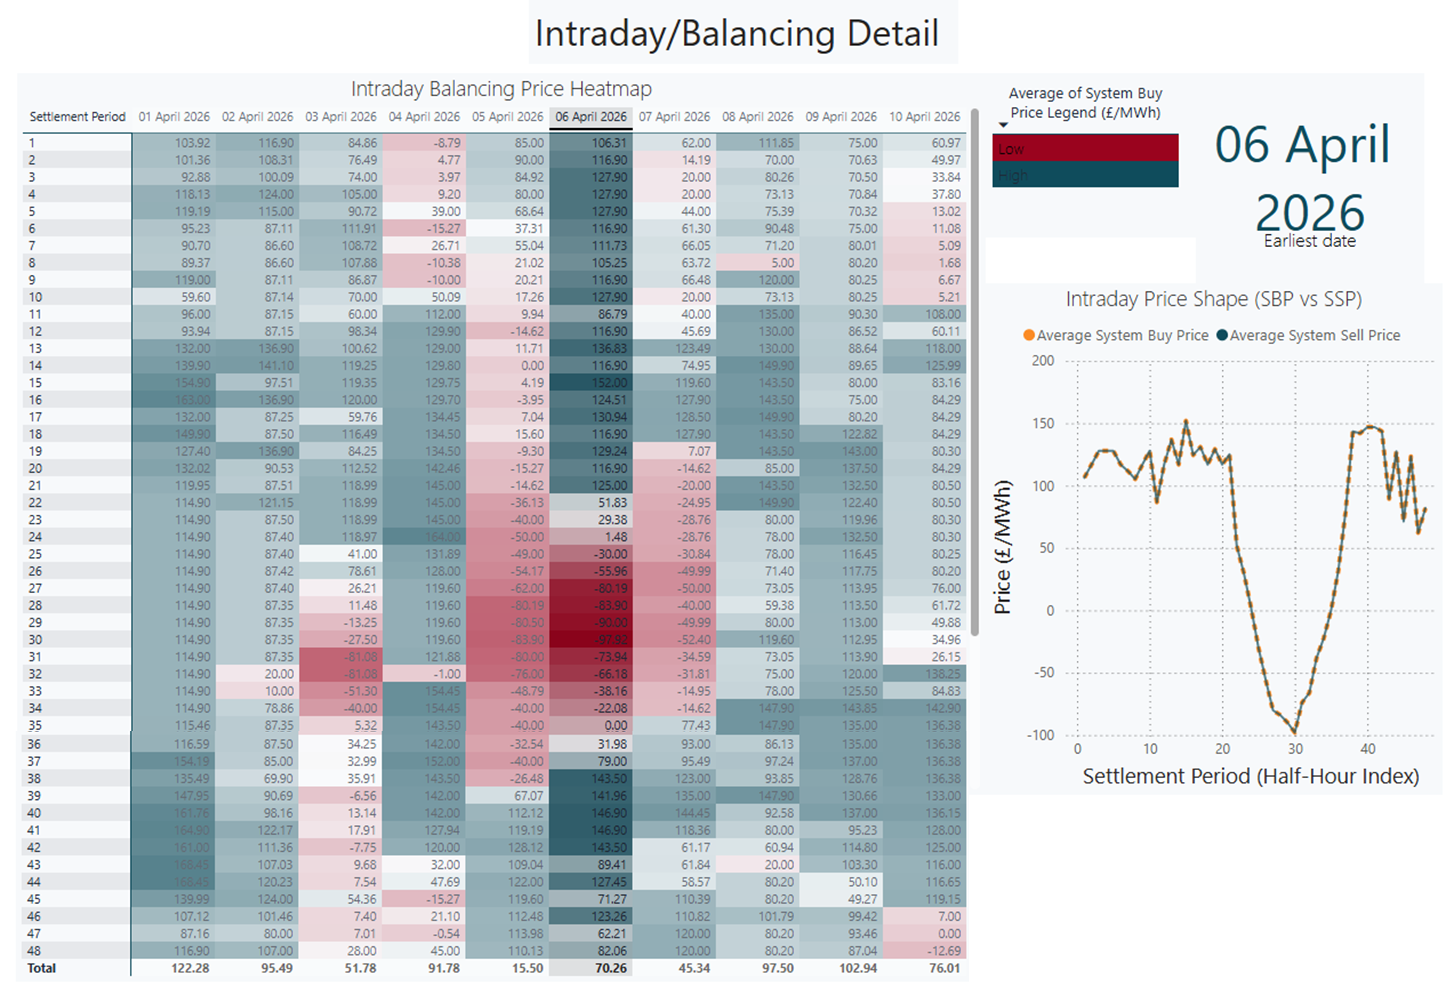

What the dashboard file says about the page in this screenshot:
{"tool":"powerbi","page":{"name":"Intraday/Balancing Detail","canvas":[1280,720],"ordinal":1},"visuals":[{"type":"pivotTable","title":"Intraday Balancing Price Heatmap","fields":{"Values":["Avg(fact_power_market.sbp_gbp_mwh)"],"Rows":["fact_power_market.settlement_period"],"Columns":["fact_power_market.date"]},"box":[16,64,848,632],"z":1000},{"type":"card","fields":{"Values":["Min(fact_power_market.date)"]},"box":[1048,64,200,184],"z":1000},{"type":"textbox","box":[464,0,376,56],"z":2000},{"type":"lineChart","title":"Intraday Price Shape (SBP vs SSP)","fields":{"Category":["fact_power_market.settlement_period"],"Y":["fact_power_market.Avg SBP","fact_power_market.Avg SSP"]},"box":[864,248,400,448],"z":3001},{"type":"tableEx","fields":{"Values":["IntraPrice Colour Legend.Label"]},"box":[864,64,184,144],"z":4002}]}

Visuals, with their boxes on the page's 1280x720 design canvas (x1, y1, x2, y2). These are canvas units, not pixel positions in the 1454x999 screenshot, which may show the page scaled, cropped or inside an application window:
"Intraday Balancing Price Heatmap" pivotTable: region(16, 64, 864, 696)
card - Min(fact_power_market.date): region(1048, 64, 1248, 248)
textbox: region(464, 0, 840, 56)
"Intraday Price Shape (SBP vs SSP)" lineChart: region(864, 248, 1264, 696)
tableEx - IntraPrice Colour Legend.Label: region(864, 64, 1048, 208)
